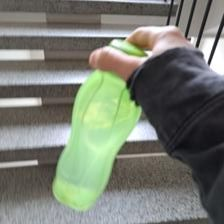bottle: (49, 37, 147, 209)
